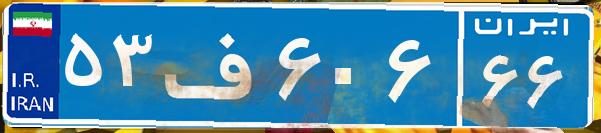0: (330, 28, 385, 110)
3: (110, 28, 158, 105)
5: (57, 26, 110, 107)
6: (385, 28, 445, 110), (273, 28, 330, 110), (475, 38, 525, 113), (525, 38, 570, 115)
ف: (158, 15, 273, 115)
